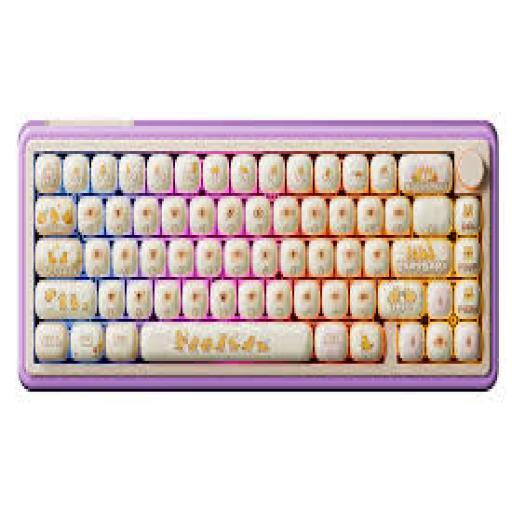keyboard: (19, 121, 498, 391)
